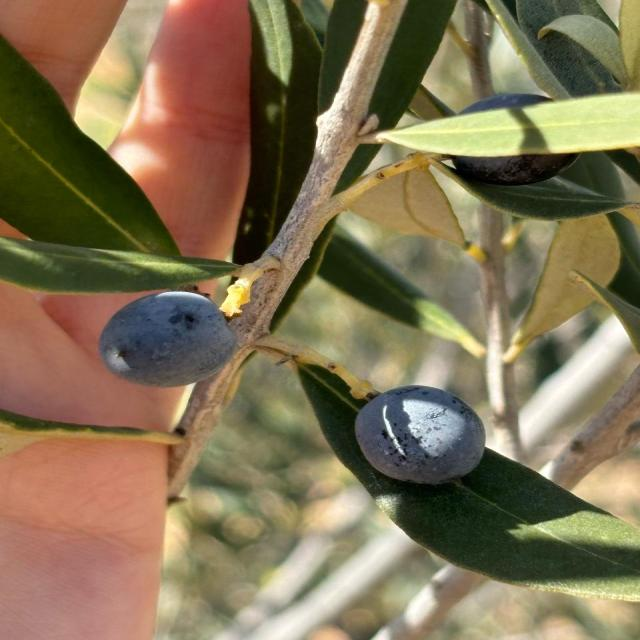Healthy: (354, 385, 487, 486), (99, 291, 237, 387)
